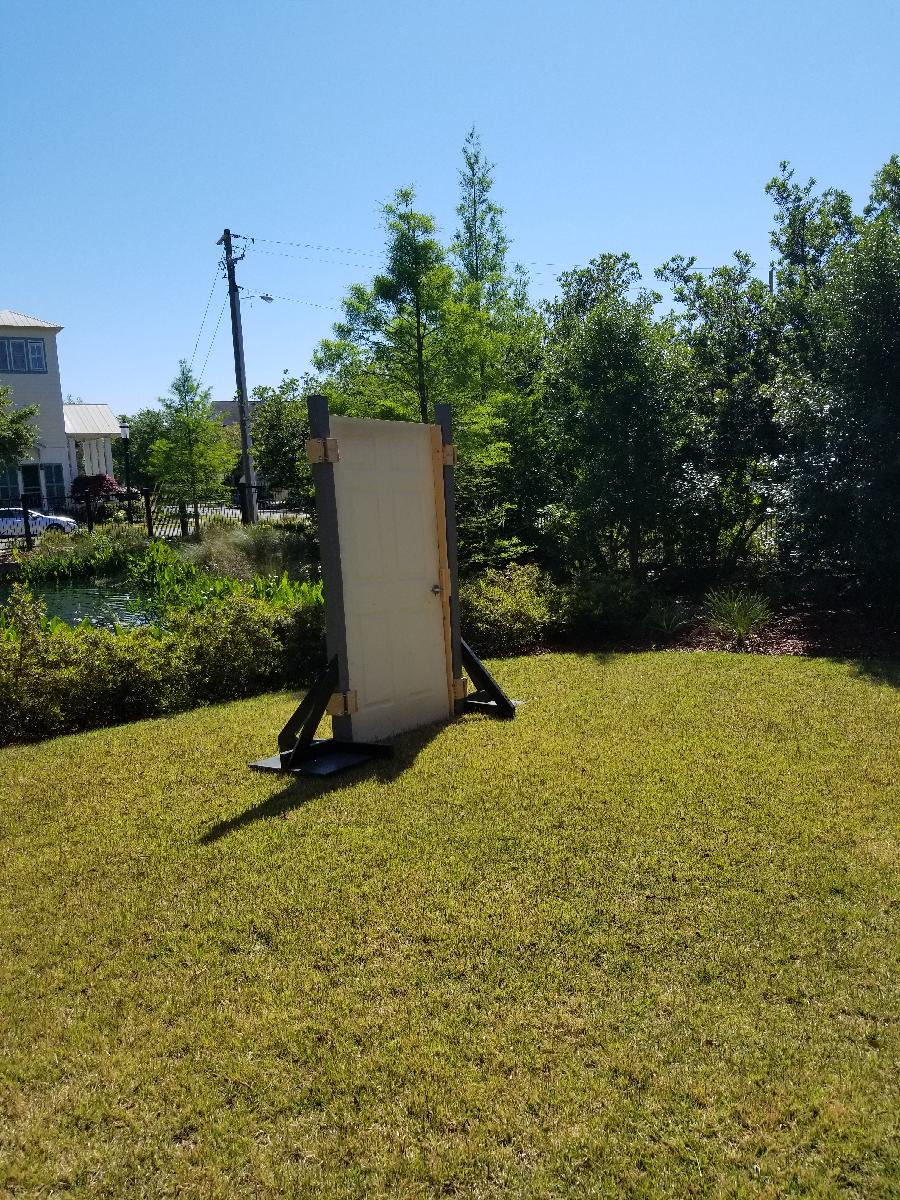door: (324, 409, 457, 748)
doorHandle: (428, 583, 449, 603)
